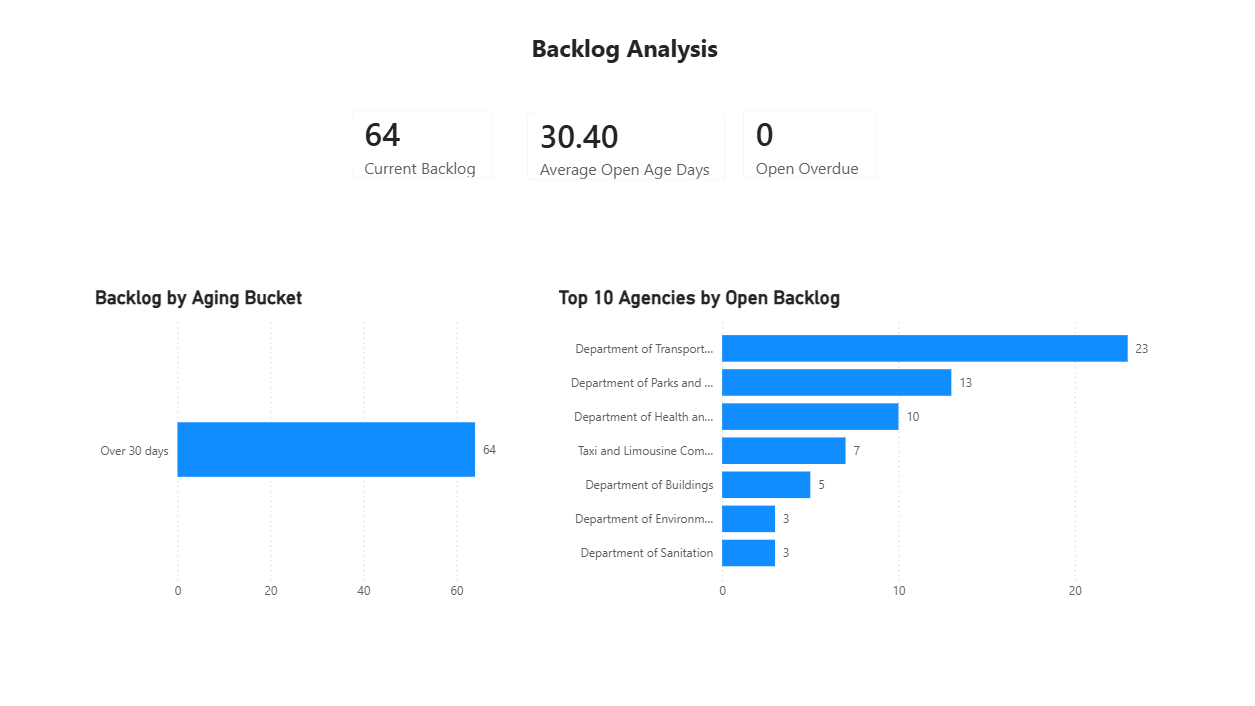

This screenshot's page, from the dashboard's own definition file:
{"tool":"powerbi","page":{"name":"Backlog Analysis","canvas":[1280,720],"ordinal":2},"visuals":[{"type":"textbox","box":[31.7,28.3,1210,45],"z":0},{"type":"cardVisual","fields":{"Data":["reporting vw_current_backlog.Current Backlog"]},"box":[343.4,97.5,177.3,103],"z":1},{"type":"cardVisual","fields":{"Data":["reporting vw_current_backlog.Average Open Age Days"]},"box":[520.7,98,234.8,103],"z":2},{"type":"cardVisual","fields":{"Data":["reporting vw_current_backlog.Open Overdue"]},"box":[739.4,97,169.7,103],"z":3},{"type":"clusteredBarChart","title":"Backlog by Aging Bucket","fields":{"Category":["reporting vw_current_backlog.aging_bucket"],"Y":["CountNonNull(reporting vw_current_backlog.ticket_id)"]},"box":[97,292.4,428.8,325.8],"z":4},{"type":"clusteredBarChart","title":"Top 10 Agencies by Open Backlog","fields":{"Category":["reporting vw_current_backlog.agency_name"],"Y":["CountNonNull(reporting vw_current_backlog.ticket_id)"]},"box":[565.2,292.4,627.3,325.8],"z":5}]}

Visuals, with their boxes in screenshot pixels (x1, y1, x2, y2), scaled from the page's 1280x720 canvas onto the 1255x706 screenshot:
textbox: locate(31, 28, 1217, 72)
cardVisual - reporting vw_current_backlog.Current Backlog: locate(337, 96, 511, 197)
cardVisual - reporting vw_current_backlog.Average Open Age Days: locate(511, 96, 741, 197)
cardVisual - reporting vw_current_backlog.Open Overdue: locate(725, 95, 891, 196)
"Backlog by Aging Bucket" clusteredBarChart: locate(95, 287, 516, 606)
"Top 10 Agencies by Open Backlog" clusteredBarChart: locate(554, 287, 1169, 606)
